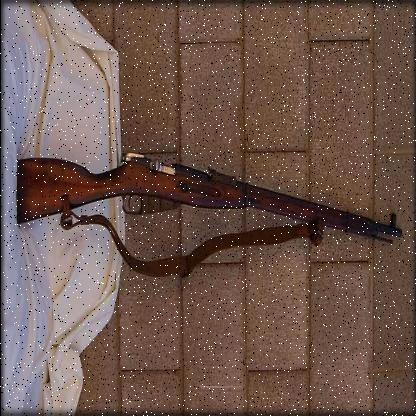rifle: (11, 138, 407, 287)
